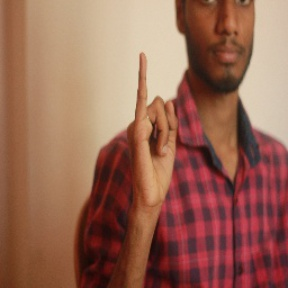I: (125, 50, 181, 195)
